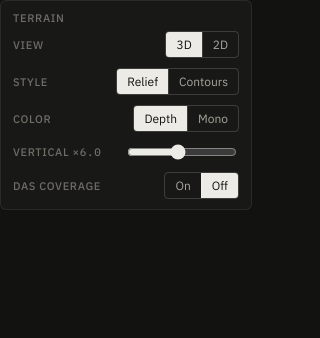
Test: Controls › can independently show or hide each DAS experiment
Expected: the element "2025–26 MultiDAS" is not shown
Click the button "On".
click(183, 186)  # box [165, 173, 201, 198]
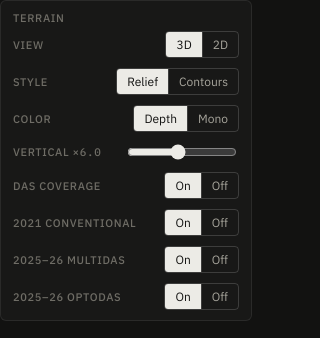
Click the button "Off" in the row of "2025–26 MultiDAS".
click(219, 260)  # box [201, 247, 238, 272]
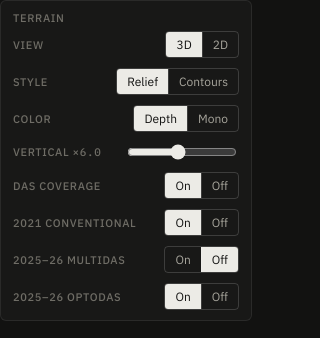
Click the button "Off" in the row of "DAS coverage".
click(219, 186)  # box [201, 173, 238, 198]
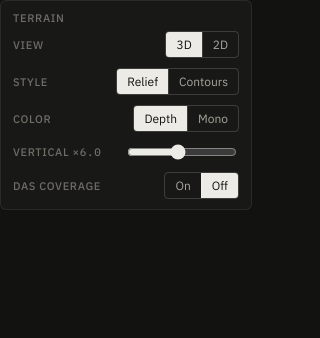
Expected: the text "2025–26 MultiDAS" is gone
